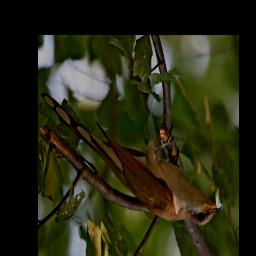Cuckoo: (39, 91, 227, 227)
